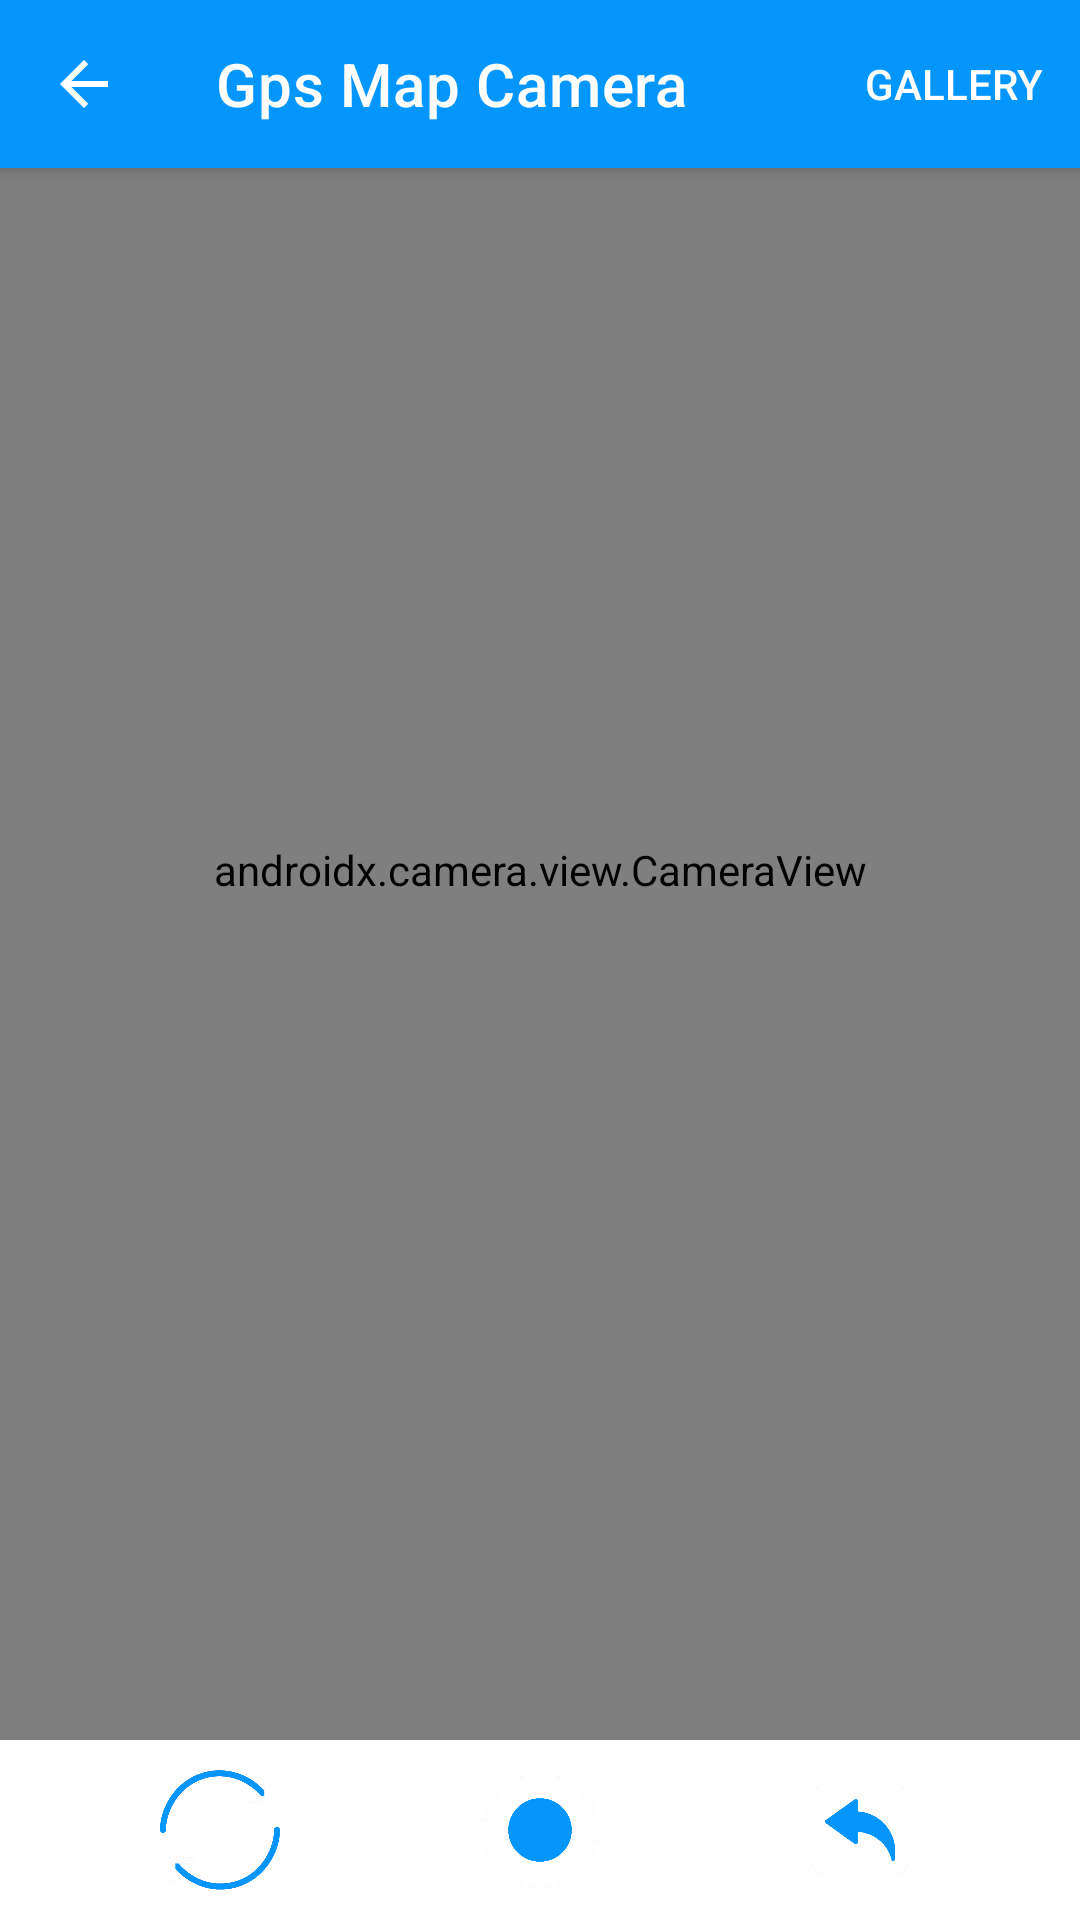

Named icons in this screenshot (1080px x 1920px) and their centers, (x,y):
Change Camera Button: (220,1830)
Close Camera Button: (860,1830)
